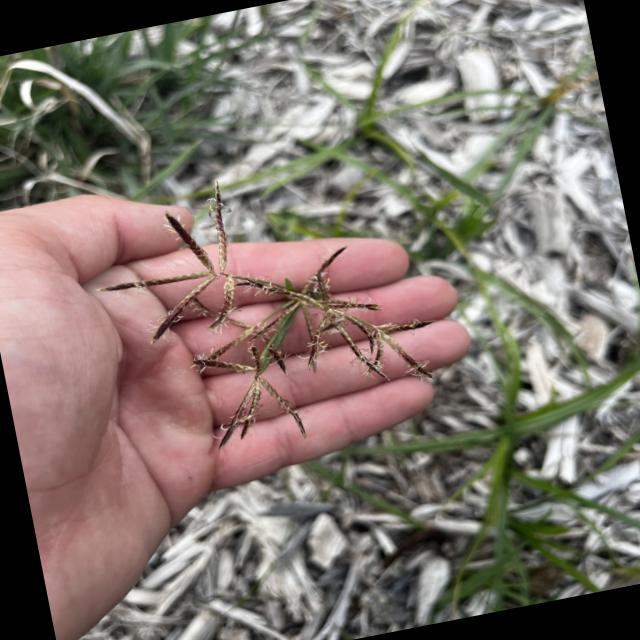cyperus: (92, 156, 457, 470)
